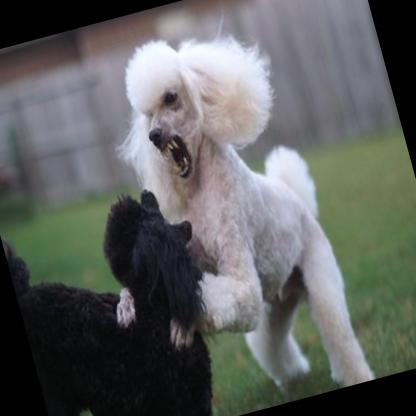miniature_poodle: (46, 3, 374, 416), (0, 174, 239, 416)
